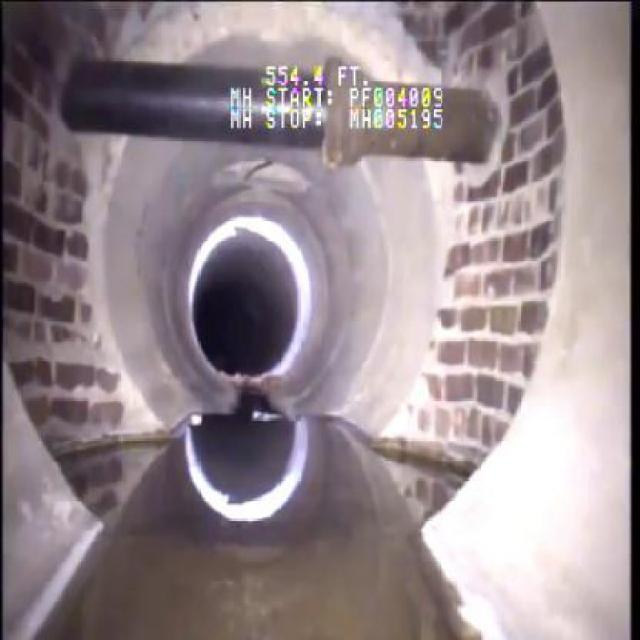Utility intrusion: (58, 50, 504, 164)
